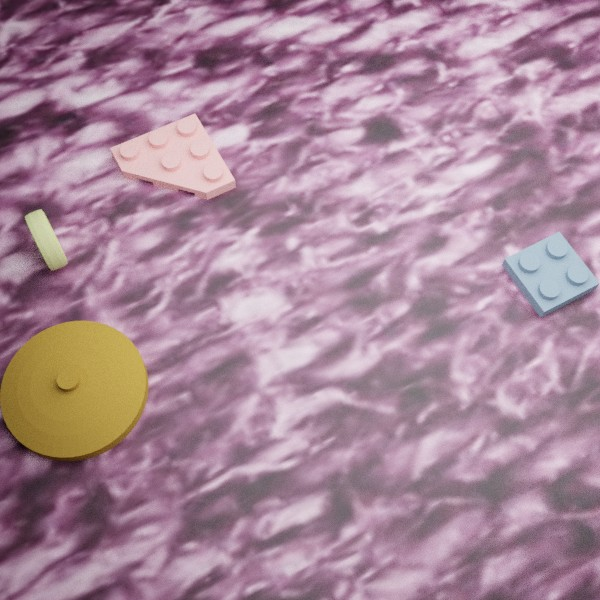lego: (0, 320, 148, 461), (110, 113, 235, 199), (501, 231, 600, 317), (24, 209, 67, 270)
